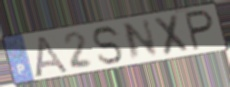2: (63, 30, 96, 71)
A: (32, 34, 71, 80)
N: (121, 17, 160, 63)
P: (183, 8, 216, 53)
S: (91, 25, 125, 67)
X: (151, 12, 191, 58)
